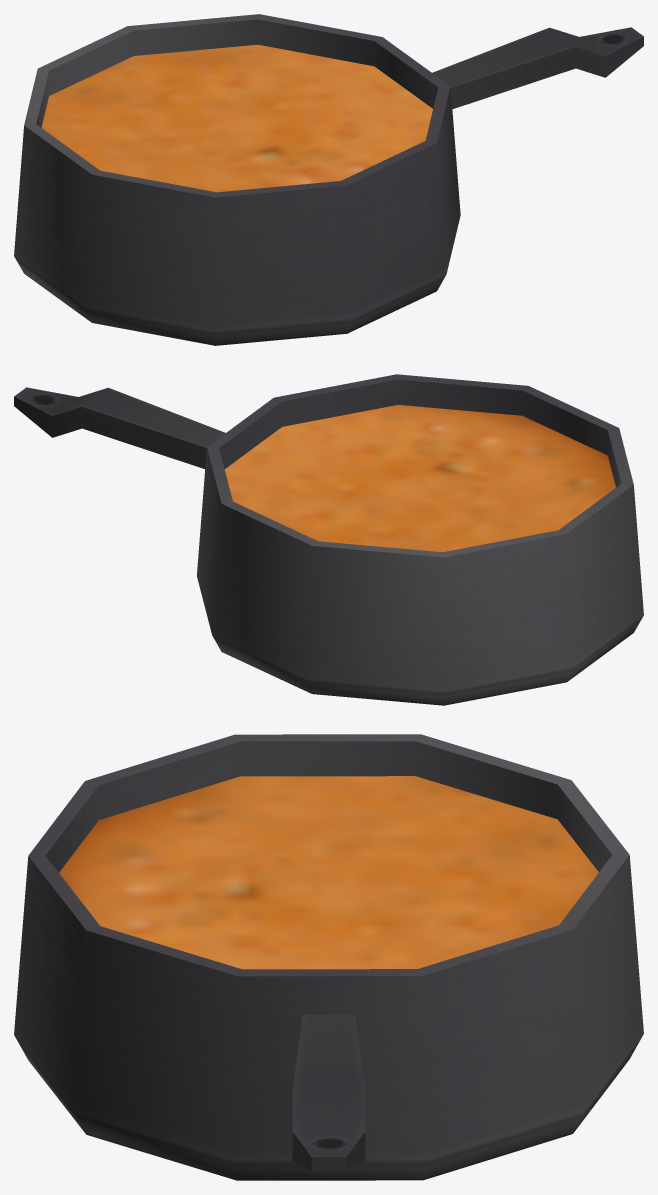
File: Cooker_1.fbx
3 renders of one model, top to bottom at view 1: azimuth 30°, elevation 25°; view 2: azimuth 150°, elevation 25°; view 3: azimuth 270°, elevation 25°, orthographic. The views are drawn at different scales.
Parts seen in each view (by area): view 1: polySurface1542; view 2: polySurface1542; view 3: polySurface1542.
Boxes of the visible parts, x1,y1,x2,y2 form: polySurface1542: (14,14,643,345); polySurface1542: (14,374,643,705); polySurface1542: (14,734,643,1180).
Size of the model in its own units: 0.6233 by 0.15 by 0.419.
